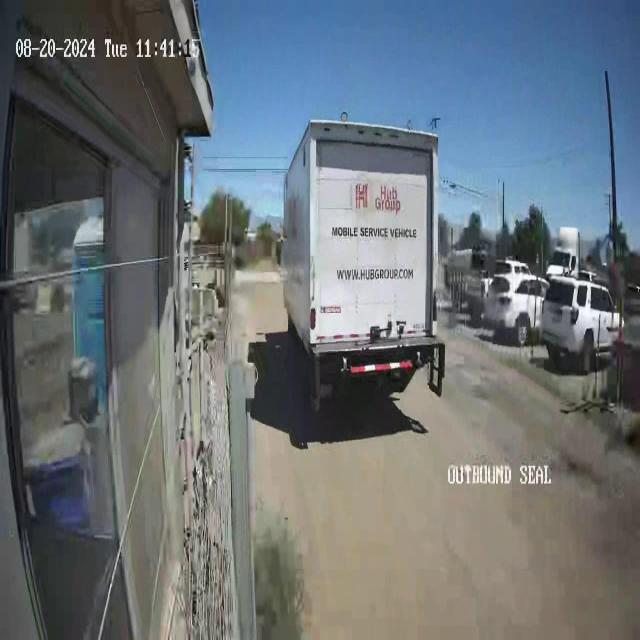CONTAINER: (280, 116, 440, 362)
